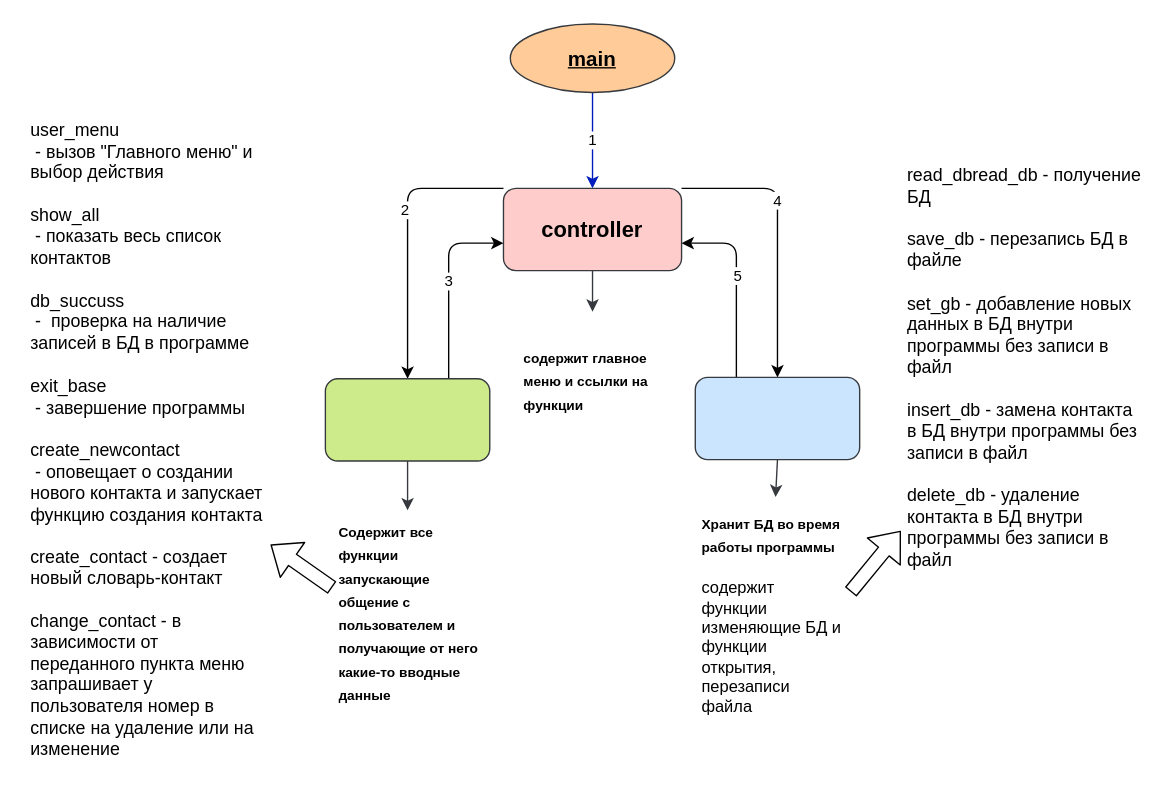
This 1170x795 diagram has some shape labels left out. Each missing label, with the centre of its shape:
modul: point 777,418
view: point 407,419
